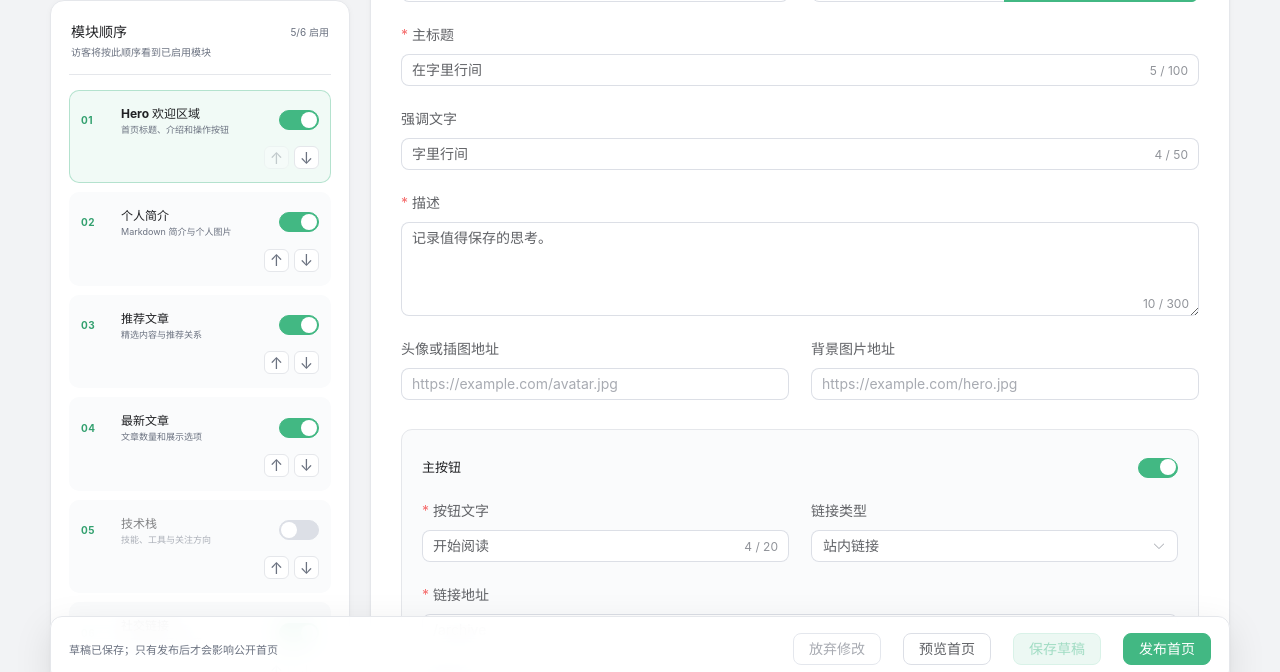
Test: HomepageSettingsView › rejects unsafe Hero image URLs before saving
This screenshot has width=1280, height=672.
(page scrolled)
Type "javascript:alert(1)" into the field with placeholder "https://example.com/avatar.jpg" at (595, 384), box [412, 369, 778, 399]
(page scrolled)
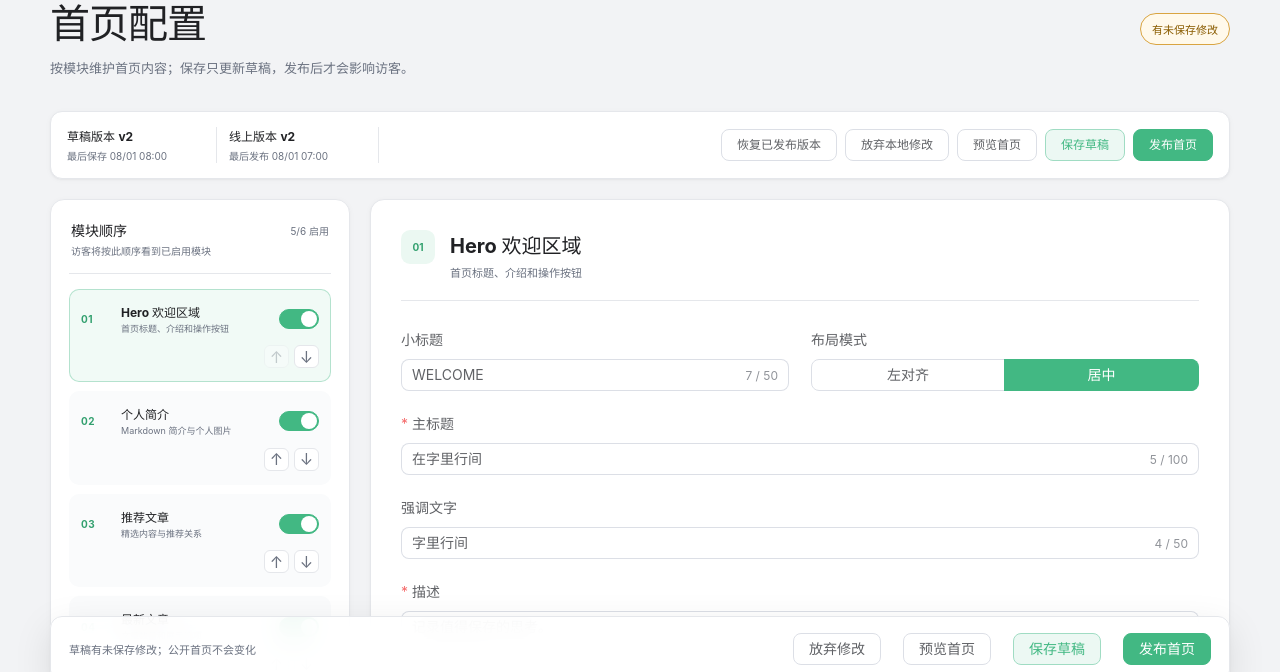
Click the button "保存草稿" in the row of "最后发布 08/01 07:00" at (1085, 145), box [1045, 129, 1125, 161]
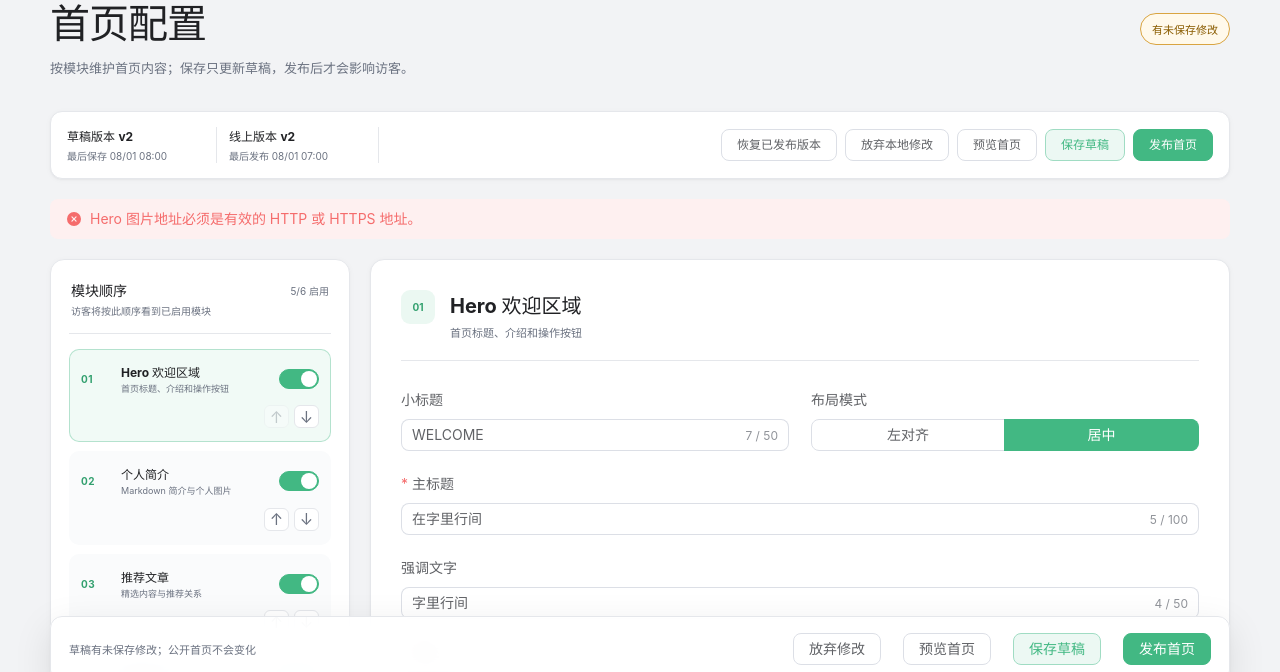
expect the text "Hero 图片地址必须是有效的 HTTP 或 HTTPS 地址" is shown: met, box [90, 210, 422, 227]
